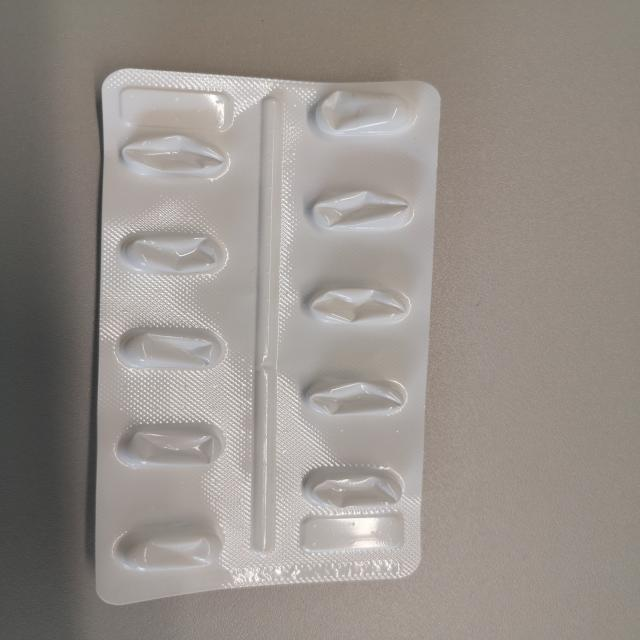Empty: (112, 418, 228, 472), (117, 132, 232, 184), (115, 230, 233, 280), (108, 523, 221, 575), (307, 86, 417, 139), (113, 324, 228, 374), (297, 463, 411, 513), (306, 186, 417, 235), (302, 282, 416, 328), (302, 374, 409, 419)
